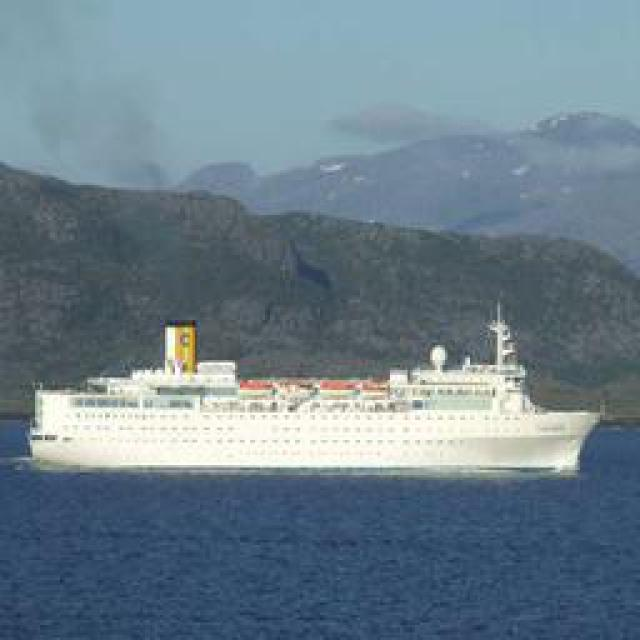Ship: (43, 311, 601, 479)
